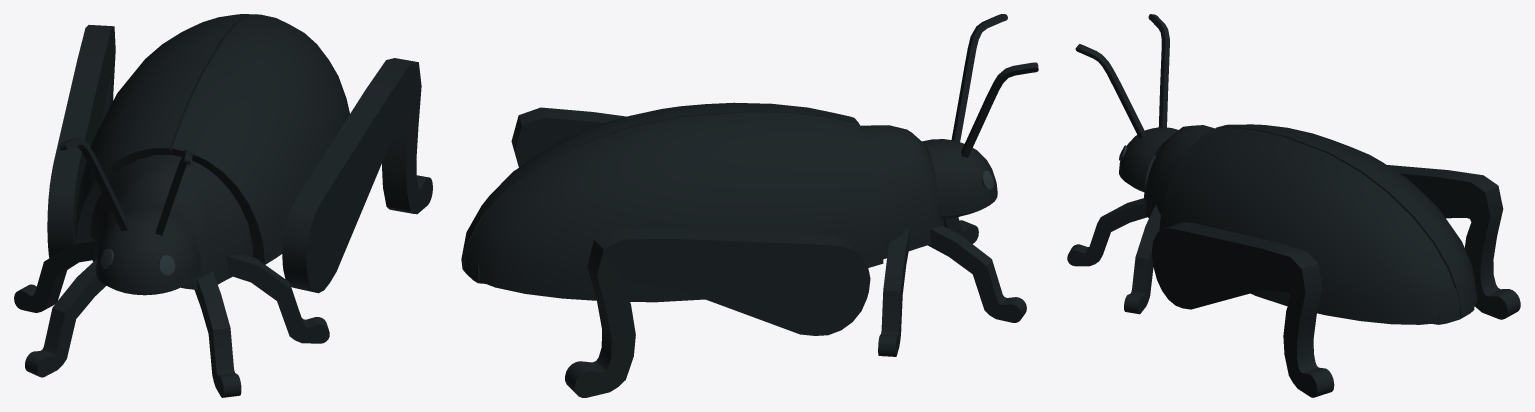
Rendered from cricket.fbx.
The picture shows the model from 3 angles, left to right: view 1: azimuth 30°, elevation 25°; view 2: azimuth 150°, elevation 25°; view 3: azimuth 270°, elevation 25°; orthographic projection. The views are drawn at different scales.
Visible parts, largest first — view 1: Cube.037; view 2: Cube.037; view 3: Cube.037.
Part boxes in pixels (bbox=[...]): Cube.037: bbox=[14, 14, 432, 397]; Cube.037: bbox=[461, 14, 1038, 397]; Cube.037: bbox=[1067, 14, 1520, 397].
Bounding box in the file's own units: 217 × 107 × 217.
1 material, 1 textured.
